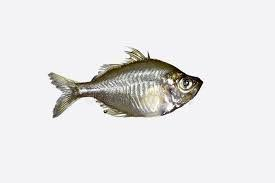Glass Perchlet: (44, 49, 204, 121)
